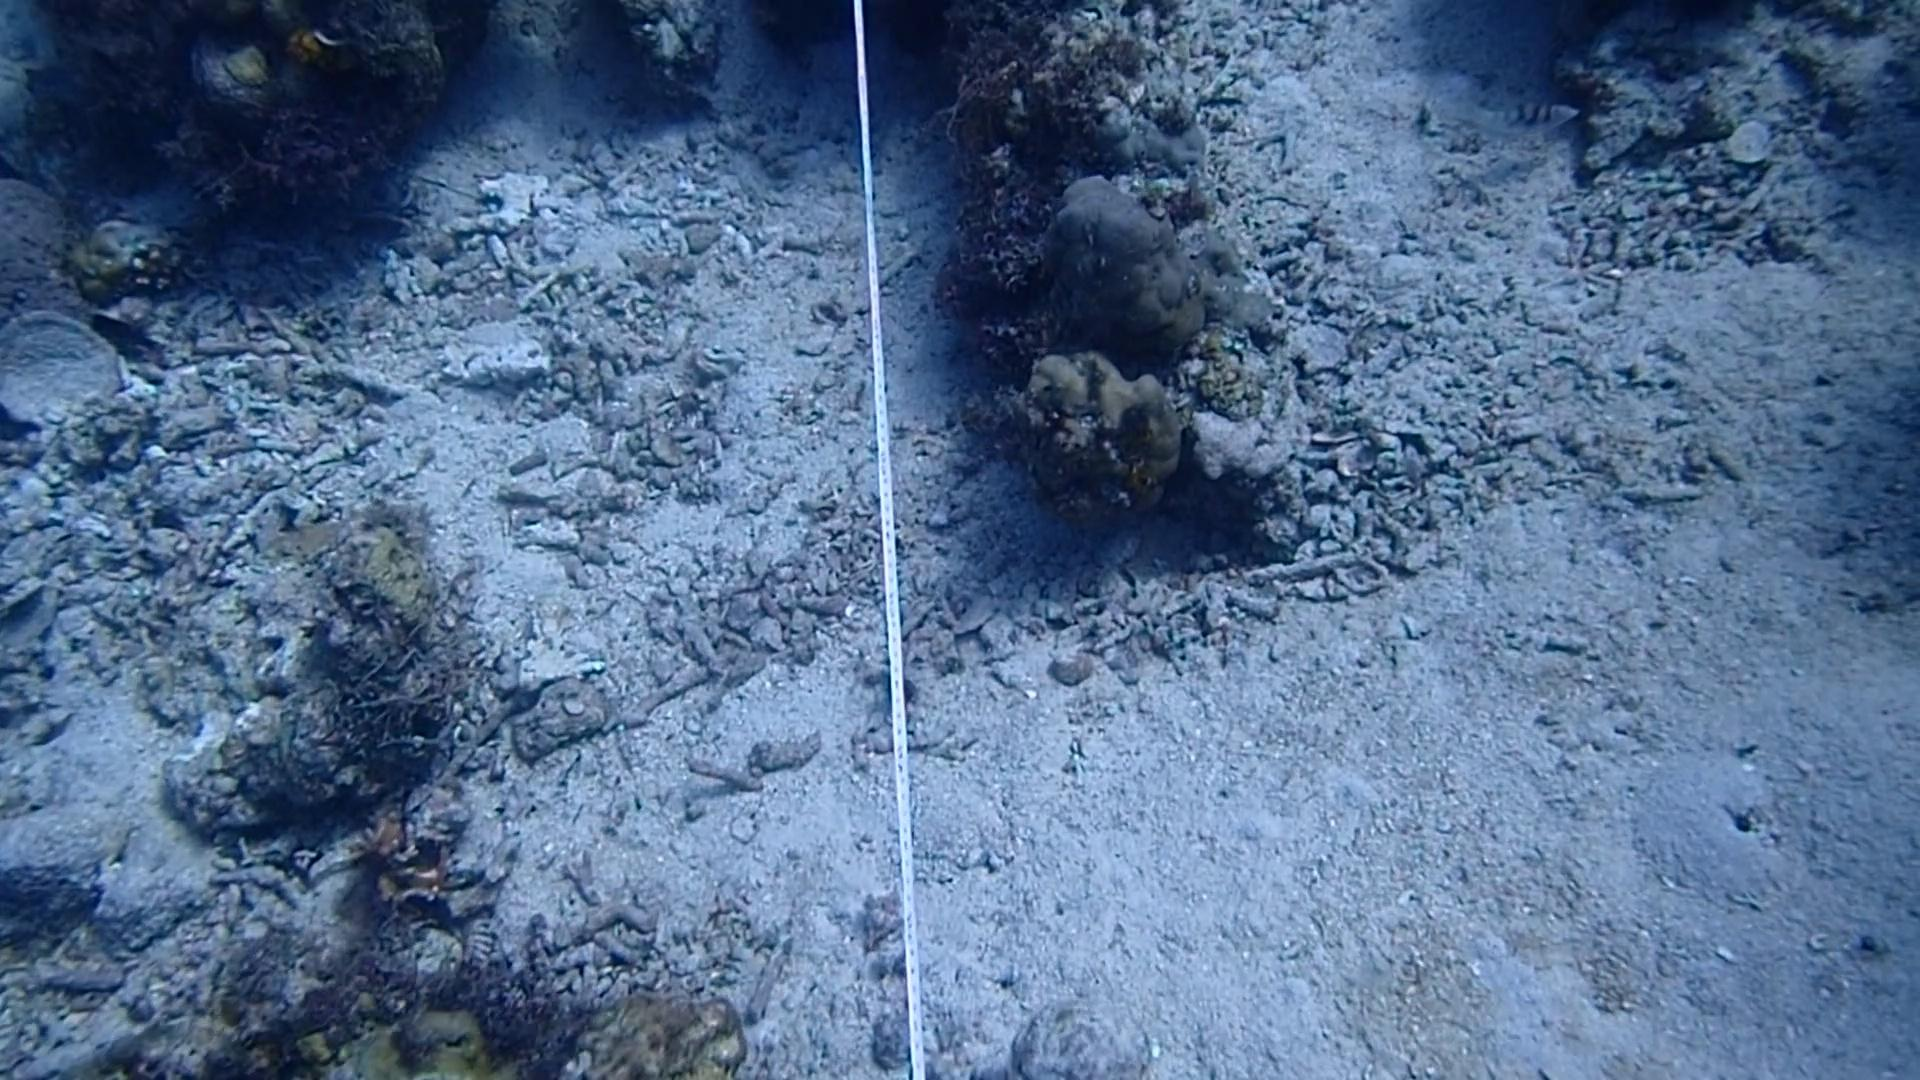Dark Fish: (82, 294, 175, 368)
